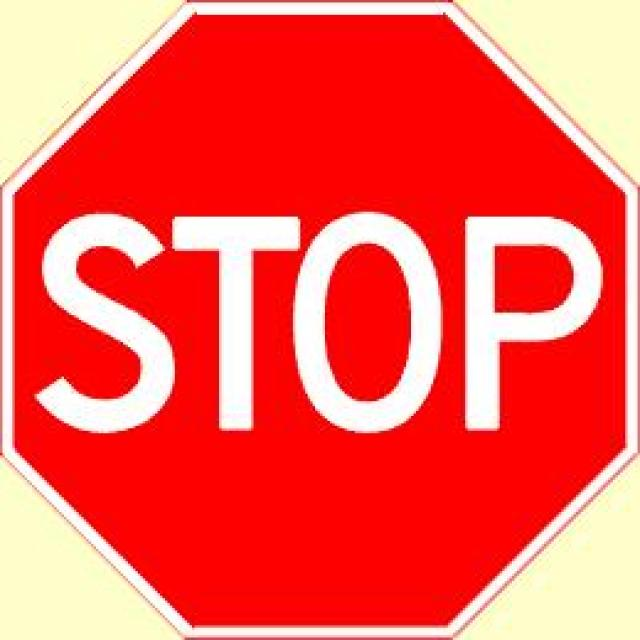stop: (26, 195, 612, 451)
